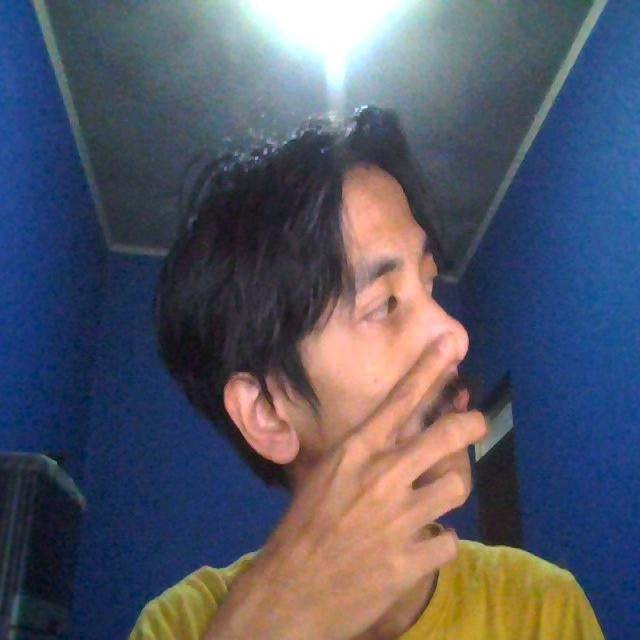melihat kekiri: (111, 170, 524, 510)
movement: (247, 340, 495, 633)
